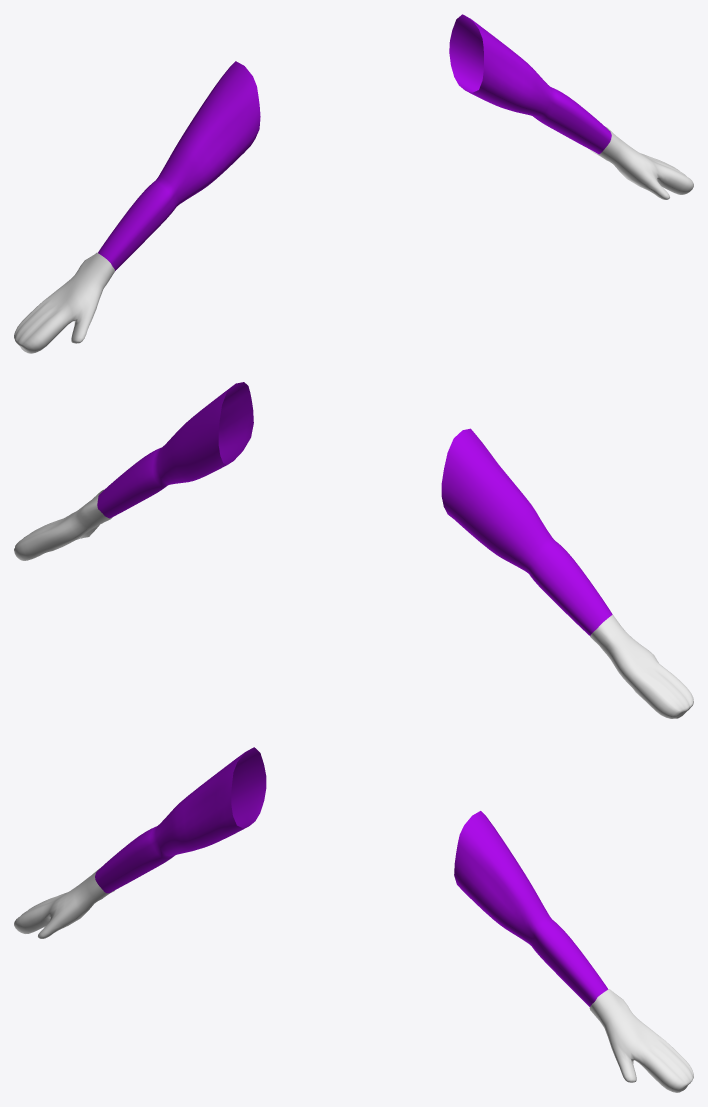
File: 2char_arm.fbx
The picture shows the model from 3 angles, top to bottom: view 1: azimuth 30°, elevation 25°; view 2: azimuth 150°, elevation 25°; view 3: azimuth 330°, elevation 25°; orthographic projection.
Parts seen in each view (by area): view 1: Body.007; view 2: Body.007; view 3: Body.007.
Boxes of the visible parts, x1=… form: Body.007: x1=14, y1=14, x2=693, y2=353; Body.007: x1=14, y1=382, x2=693, y2=718; Body.007: x1=14, y1=747, x2=693, y2=1092.
Size of the model in its own units: 130 by 43.04 by 13.91.
